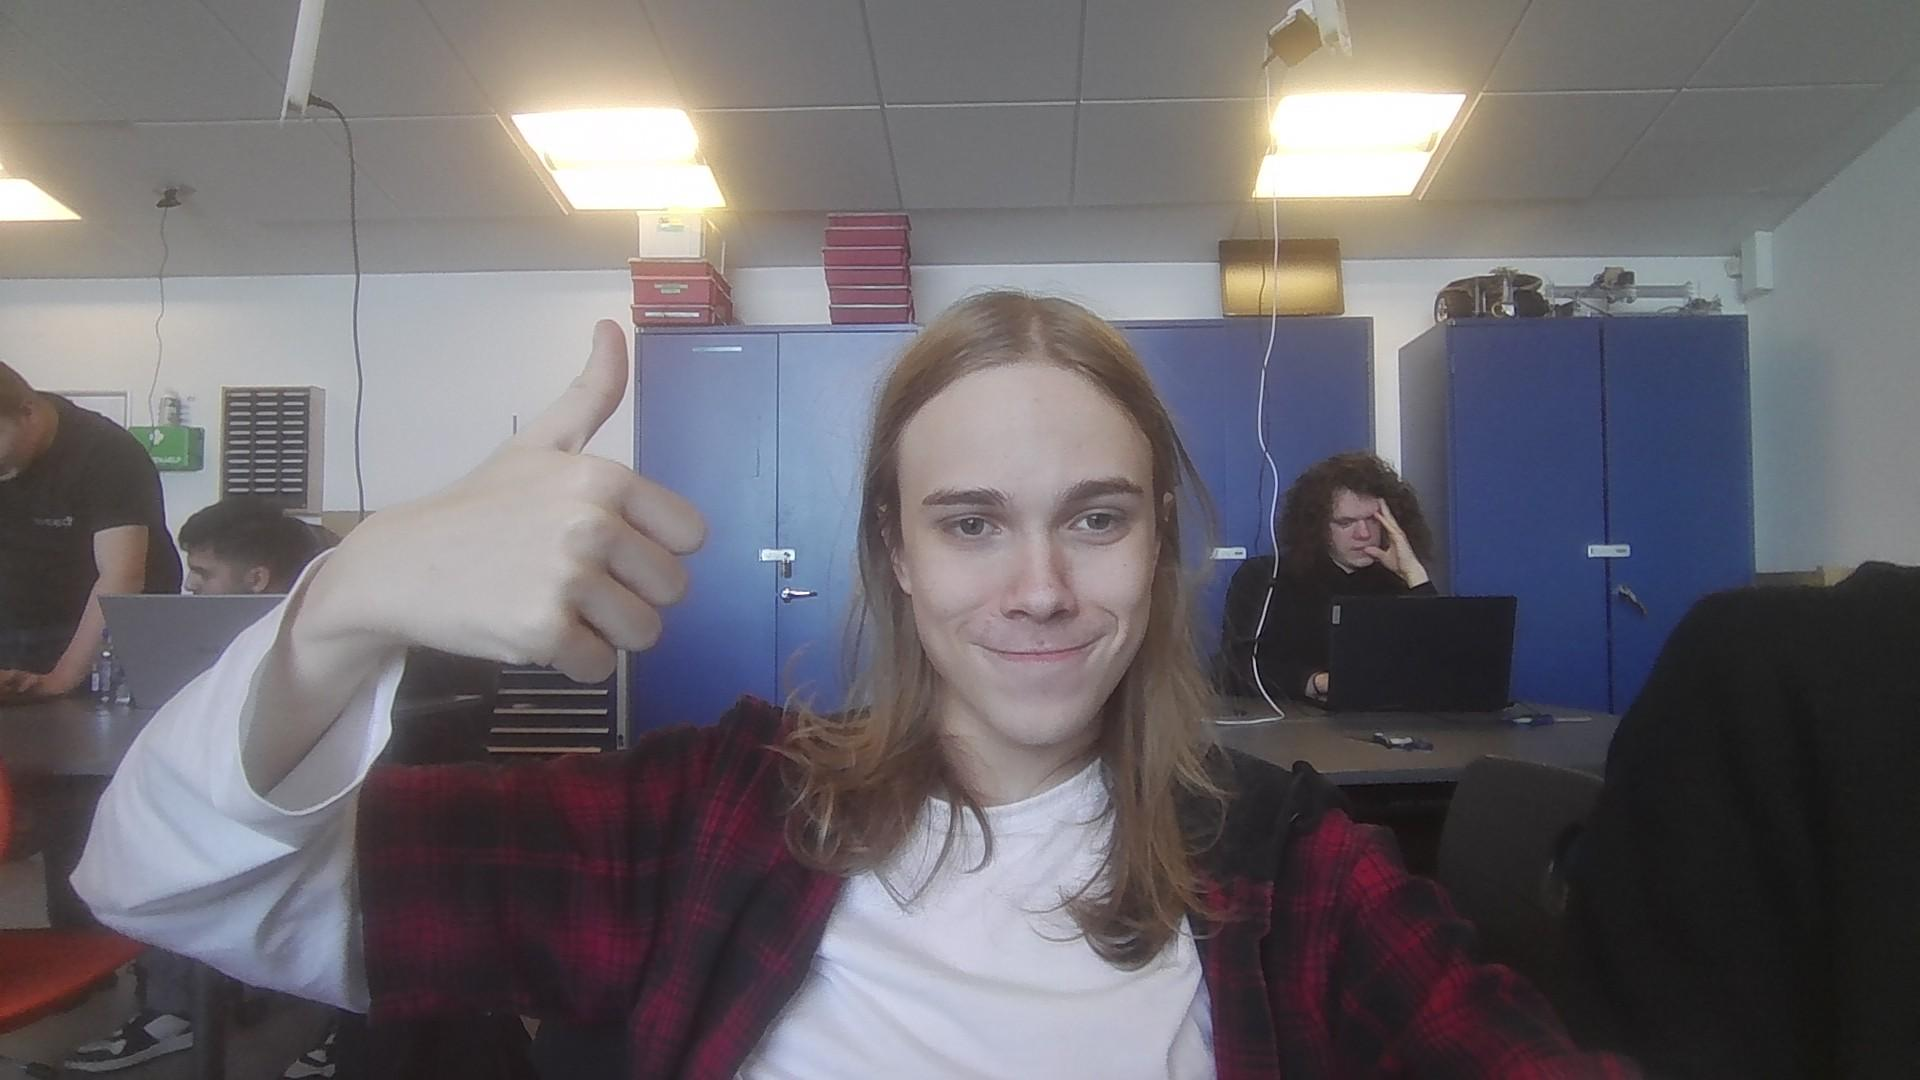thumbs up: (297, 314, 717, 684)
